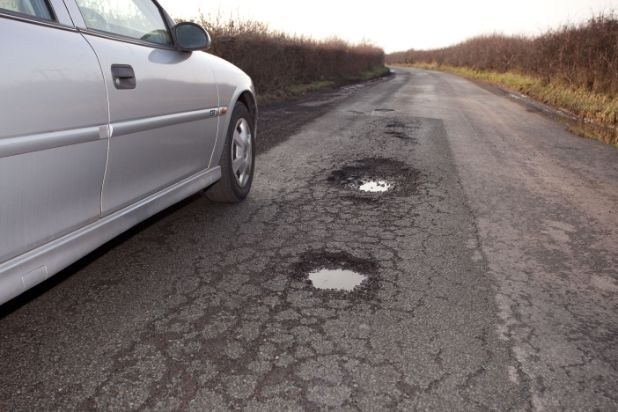pothole: (288, 245, 378, 298), (325, 154, 424, 197)
